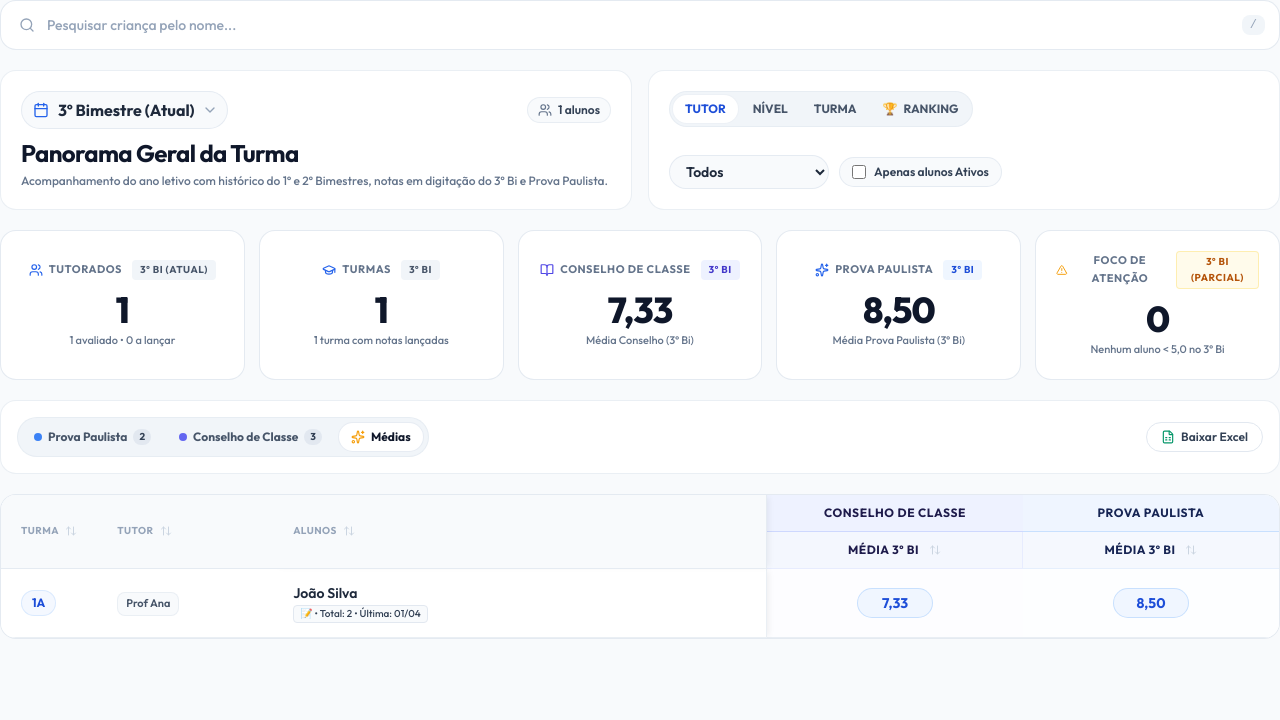
Test case: Dashboard — Botões de Visão: Prova Paulista, Conselho de Classe e Médias › exibe as disciplinas da Prova Paulista e sua média ao clicar em Prova Paulista
The width and height of the screenshot is (1280, 720).
What coordinates should you click on to do the following:
click the button "Prova Paulista 2"
I would click on:
 (93, 437)
Its box is x1=22 y1=423 x2=163 y2=451.
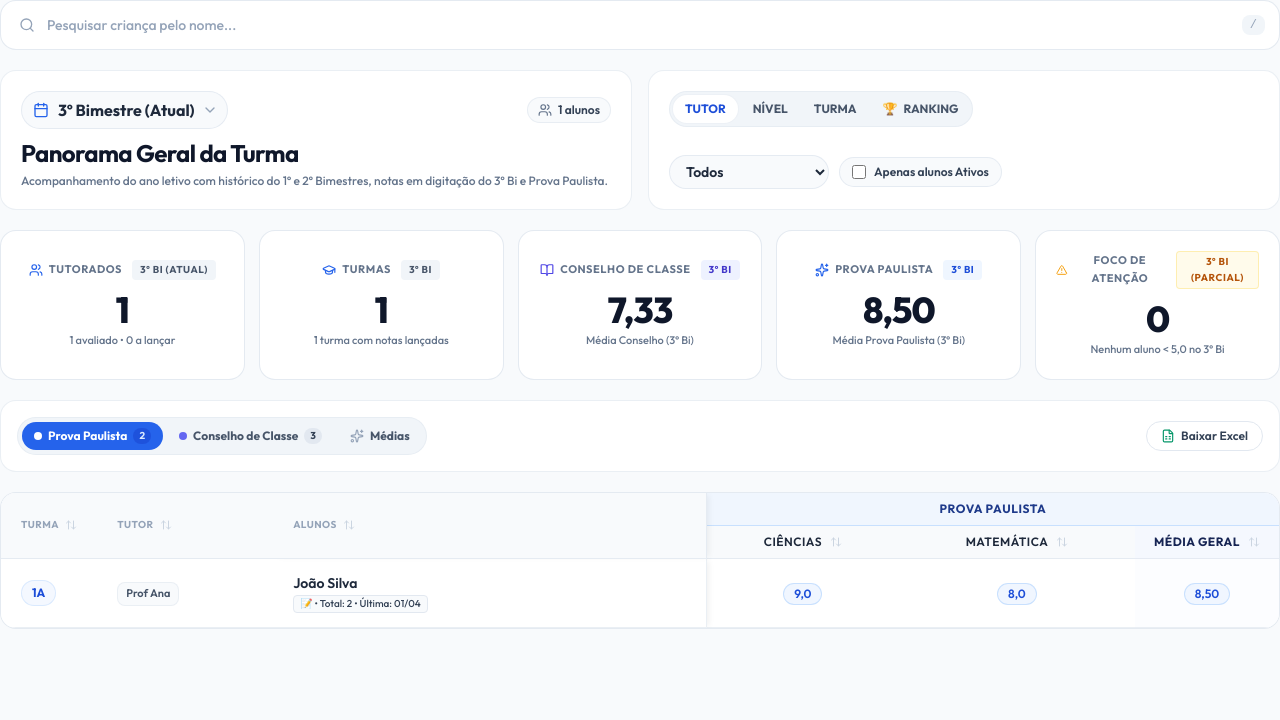
Expected: the text "Prova Paulista" in the row of "Foco de Atenção" is shown, x1=835 y1=262 x2=933 y2=276
Now the text "CIÊNCIAS" is shown, box x1=764 y1=534 x2=822 y2=550
